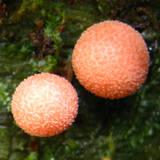poisonous_mushroom: (71, 19, 150, 99), (10, 71, 79, 137)
